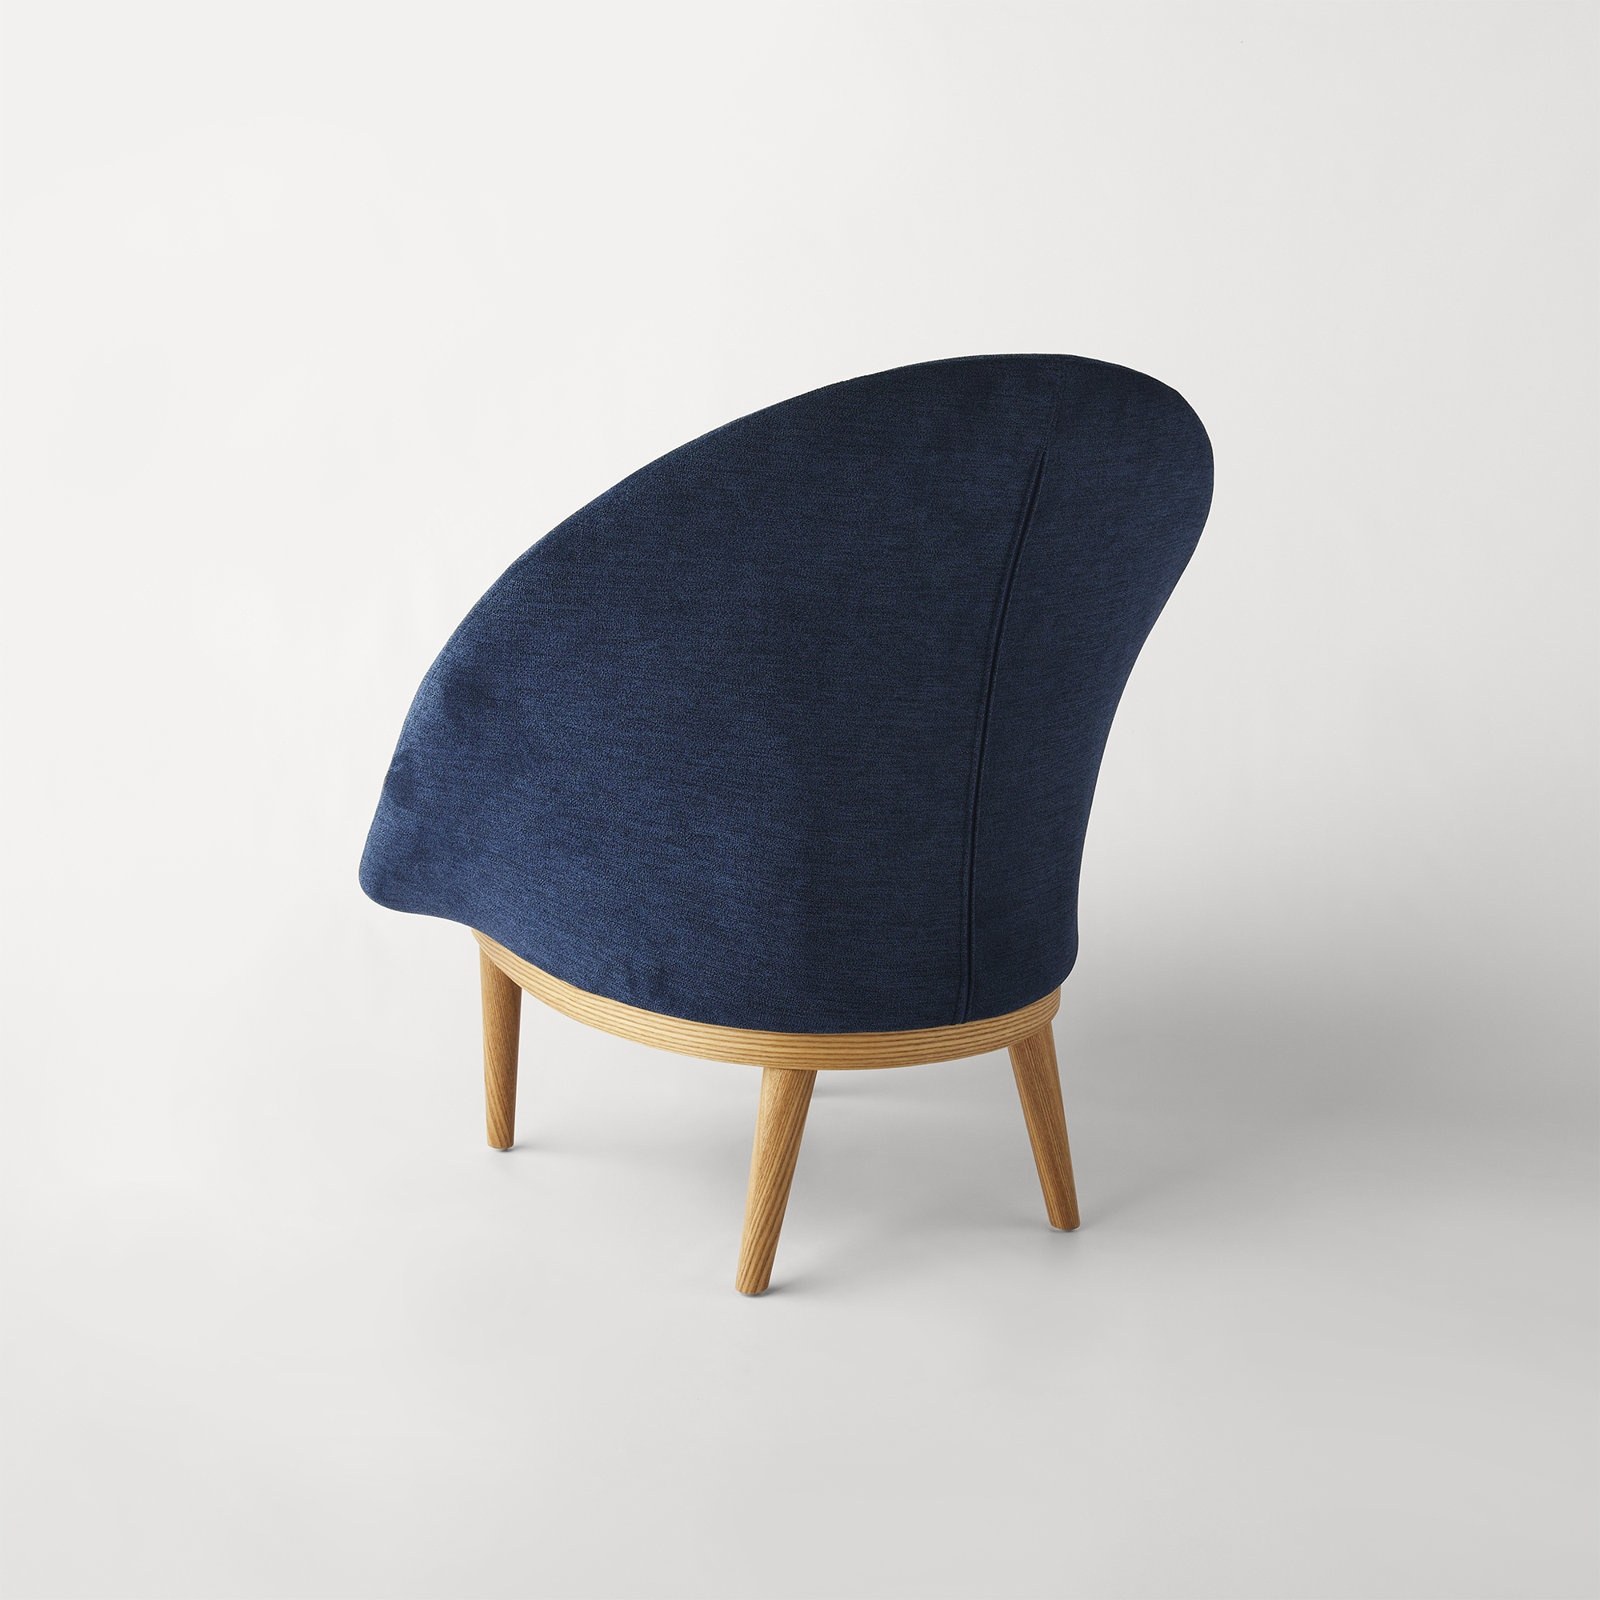obstacle: (360, 355, 1212, 1292)
